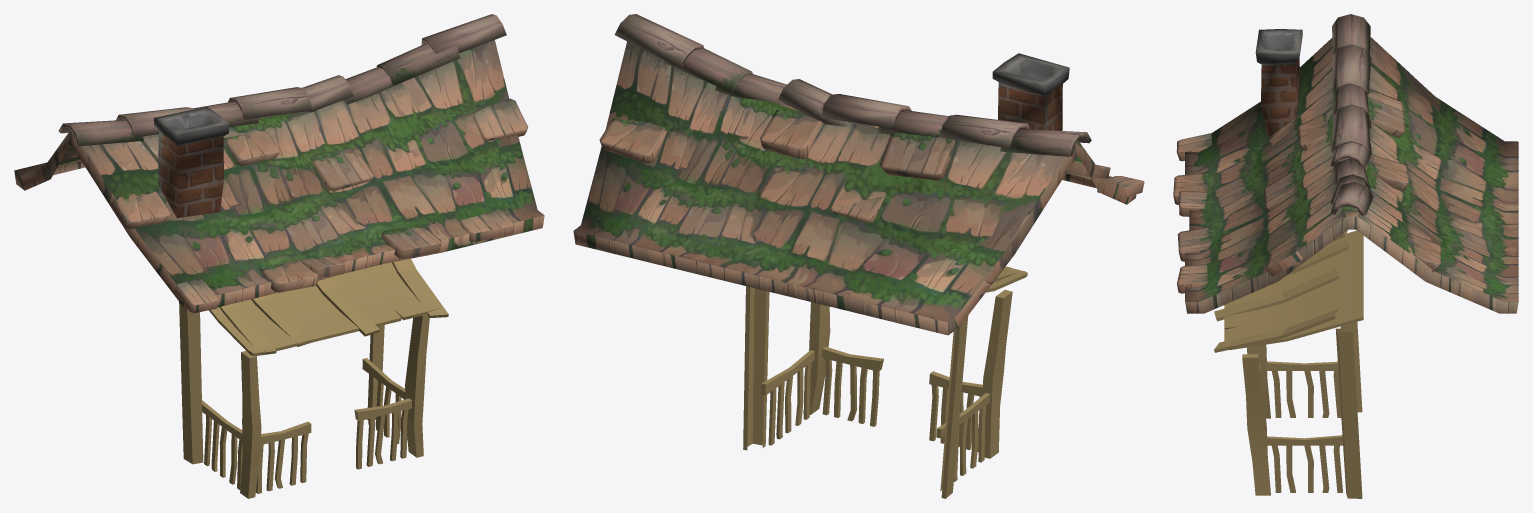
File: Roof.fbx
The picture shows the model from 3 angles, left to right: view 1: azimuth 30°, elevation 25°; view 2: azimuth 150°, elevation 25°; view 3: azimuth 270°, elevation 25°; orthographic projection. The views are drawn at different scales.
Parts seen in each view (by area): view 1: Roof1.001, Wooden Support Pillars.001, Roof1 Loose Tiles001.004, Roof1 Upper tiles.008, Chimney001.001; view 2: Roof1.001, Wooden Support Pillars.001, Roof1 Upper tiles.008, Roof1 Loose Tiles001.004, Chimney001.001; view 3: Roof1.001, Wooden Support Pillars.001, Roof1 Loose Tiles001.004, Roof1 Upper tiles.008, Chimney001.001.
Part boxes in pixels (x1,y1,x2,y2): Roof1.001: (14,40,544,313); Wooden Support Pillars.001: (179,258,448,498); Roof1 Loose Tiles001.004: (110,98,527,312); Roof1 Upper tiles.008: (58,14,506,146); Chimney001.001: (153,107,229,218); Roof1.001: (573,41,1136,335); Wooden Support Pillars.001: (743,266,1027,498); Roof1 Upper tiles.008: (614,14,1091,156); Roof1 Loose Tiles001.004: (599,110,1144,222); Chimney001.001: (992,53,1069,130); Roof1.001: (1185,37,1518,313); Wooden Support Pillars.001: (1214,230,1363,498); Roof1 Loose Tiles001.004: (1173,88,1441,293); Roof1 Upper tiles.008: (1330,14,1373,215); Chimney001.001: (1255,29,1302,137).
Size of what is drawn, in the model's own units: 251 by 212 by 187.
